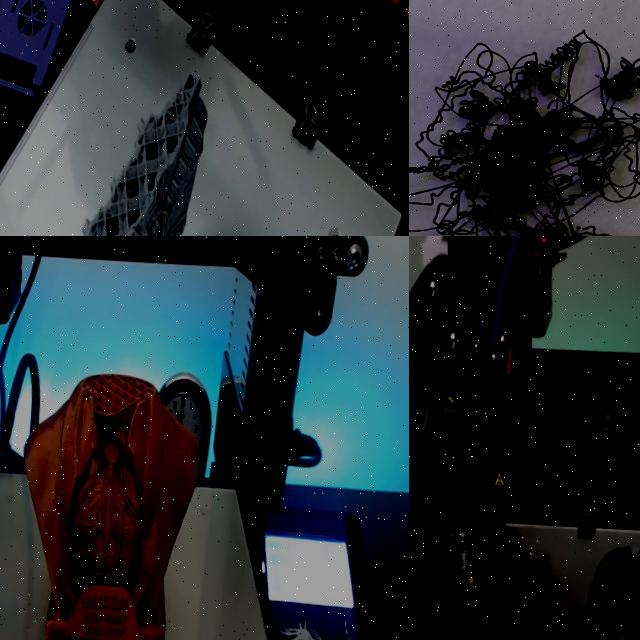spaghetti: (409, 13, 640, 236)
